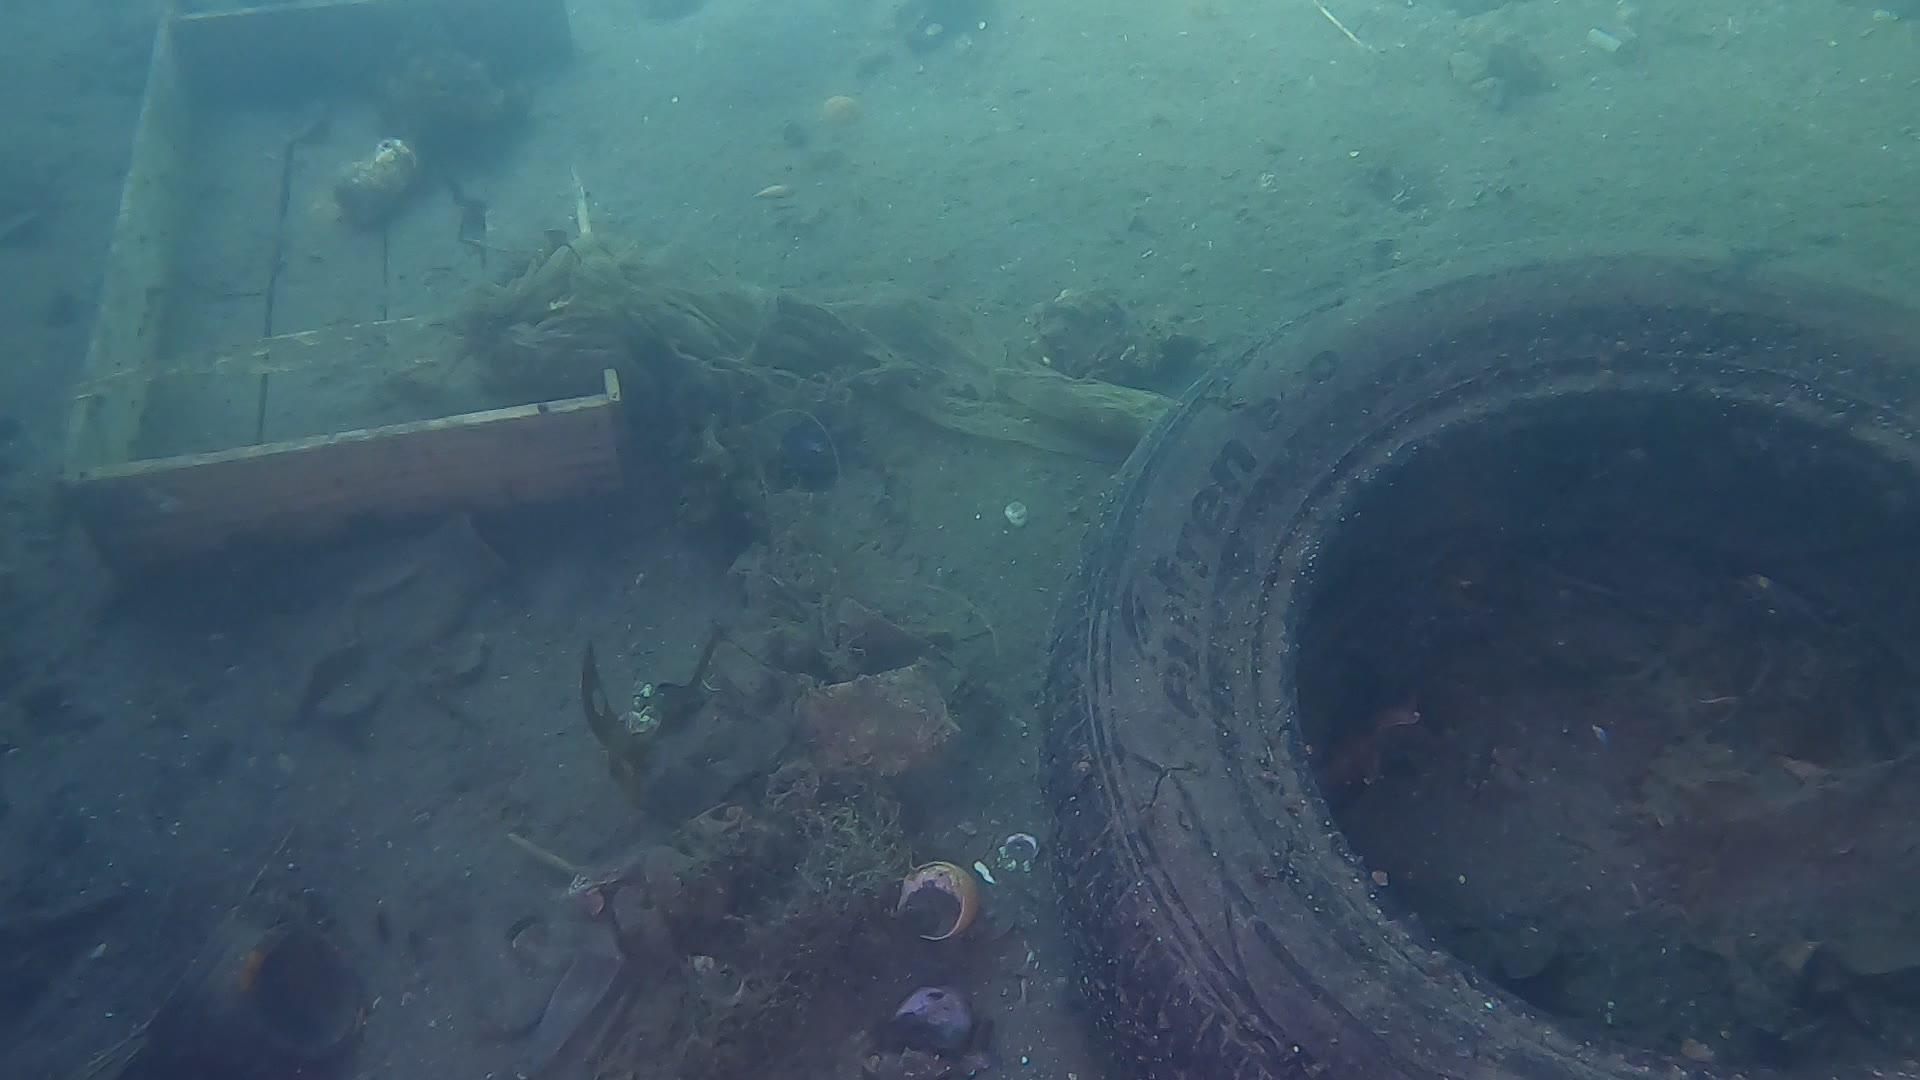tire: (1038, 225, 1920, 1080)
